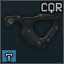Hera Arms CQR tactical grip: (0, 0, 64, 64)
